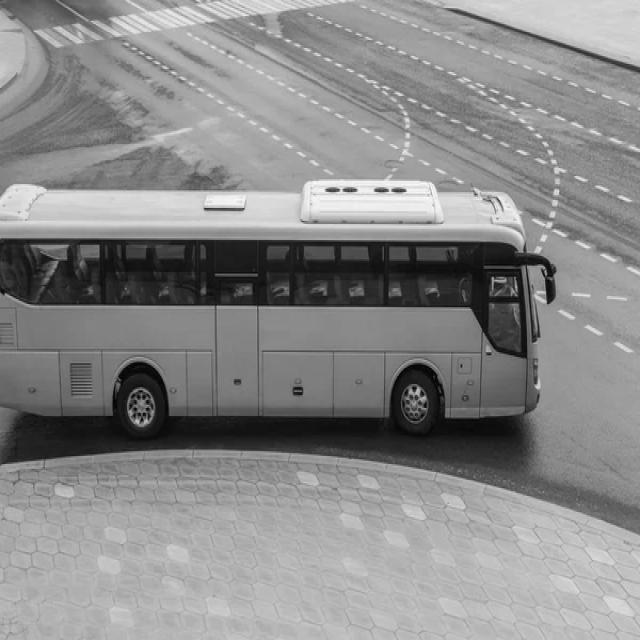Bus: (0, 180, 558, 438)
